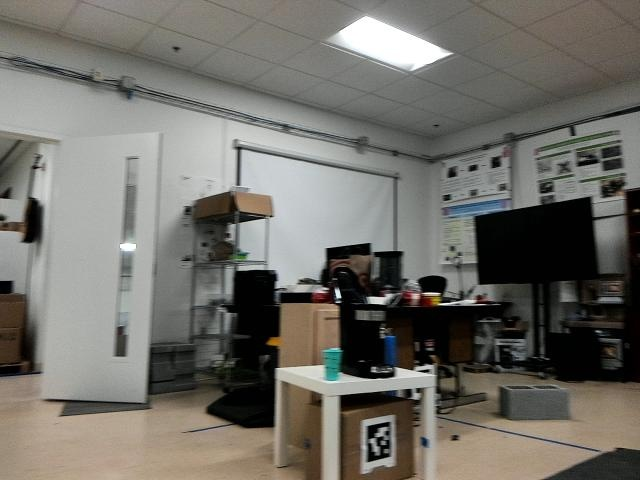coffee_cup: (322, 347, 341, 380)
